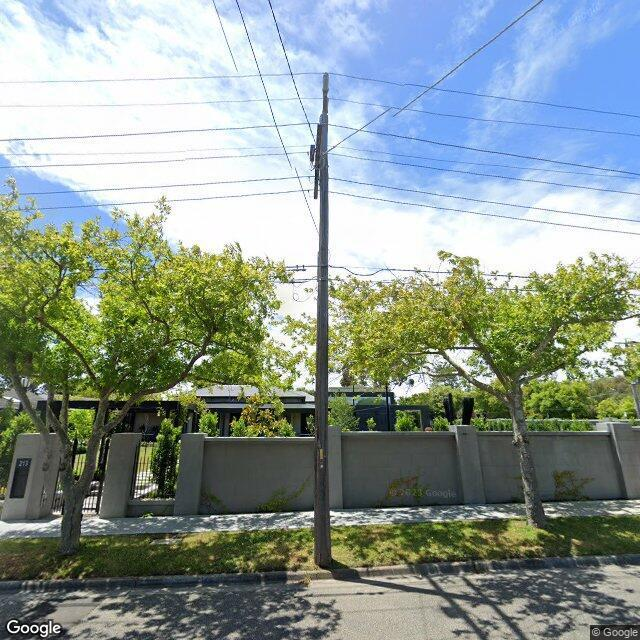HV-transmission: (309, 71, 330, 164)
crossarm: (313, 124, 323, 199), (322, 96, 331, 114)
timber-pole: (314, 114, 332, 569)
